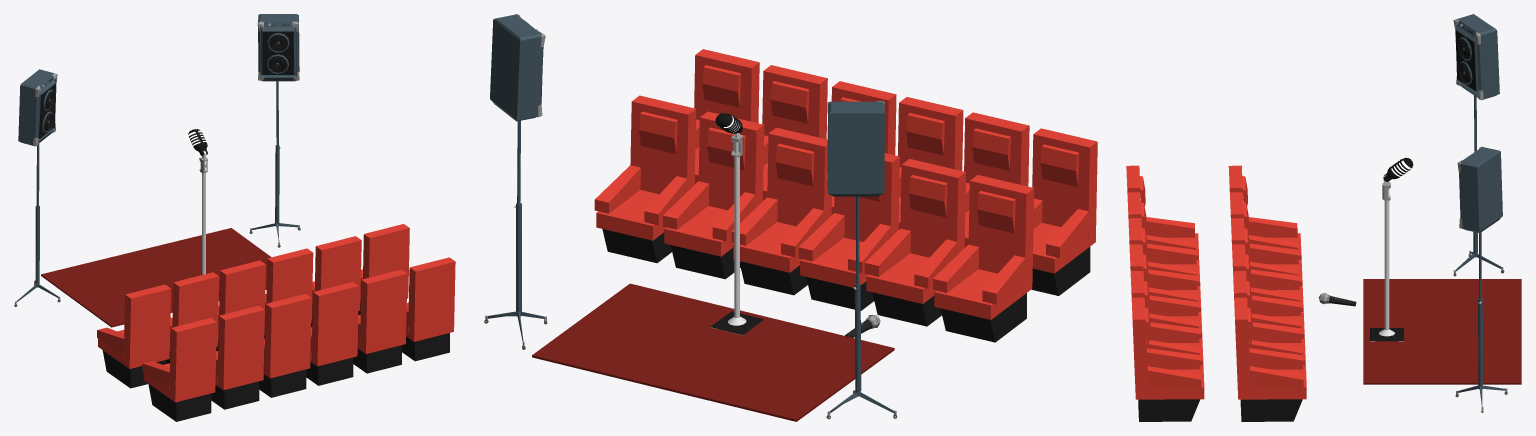
File: comedy.glb
3 views of the same model, side by side, from view 1: azimuth 30°, elevation 25°; view 2: azimuth 150°, elevation 25°; view 3: azimuth 270°, elevation 25° (orthographic). The views are drawn at different scales.
Parts seen in each view (by area): view 1: WoolCarpet1, group21055900442, group2105590044, group21055900446, group21055900445, group21055900443, group21055900444, group21055900448, group437030597, group4370305972, group21055900449, group210559004412 (+13 smaller); view 2: WoolCarpet1, group4370305972, group437030597, group21055900448, group21055900442, group210559004412, group210559004410, group21055900447, group21055900449, group21055900443, group21055900446, group21055900445 (+43 smaller); view 3: WoolCarpet1, group437030597, group4370305972, mic_001, group21055900444, group210559004410, group2670849904, group26708499010, group9754550764, group97545507610, group5498809474, group54988094710 (+29 smaller).
Part boxes in pixels (left/top/right/bottom): WoolCarpet1: left=41, top=228, right=271, bottom=327; group21055900442: left=169, top=318, right=216, bottom=402; group2105590044: left=311, top=282, right=358, bottom=366; group21055900446: left=217, top=305, right=264, bottom=390; group21055900445: left=264, top=294, right=311, bottom=378; group21055900443: left=360, top=269, right=407, bottom=353; group21055900444: left=408, top=257, right=455, bottom=341; group21055900448: left=123, top=284, right=170, bottom=368; group437030597: left=257, top=14, right=299, bottom=81; group4370305972: left=18, top=69, right=57, bottom=146; group21055900449: left=314, top=236, right=361, bottom=310; group210559004412: left=172, top=272, right=219, bottom=346; WoolCarpet1: left=532, top=283, right=894, bottom=421; group4370305972: left=826, top=101, right=884, bottom=196; group437030597: left=490, top=14, right=545, bottom=121; group21055900448: left=968, top=175, right=1034, bottom=293; group21055900442: left=1032, top=128, right=1097, bottom=247; group210559004412: left=900, top=159, right=965, bottom=257; group210559004410: left=630, top=95, right=696, bottom=194; group21055900447: left=767, top=127, right=831, bottom=226; group21055900449: left=698, top=111, right=764, bottom=210; group21055900443: left=762, top=65, right=827, bottom=139; group21055900446: left=964, top=112, right=1029, bottom=186; group21055900445: left=898, top=97, right=963, bottom=170; WoolCarpet1: left=1363, top=279, right=1521, bottom=384; group437030597: left=1457, top=146, right=1502, bottom=232; group4370305972: left=1453, top=14, right=1499, bottom=100; mic_001: left=1370, top=157, right=1413, bottom=341; group21055900444: left=1131, top=297, right=1148, bottom=399; group210559004410: left=1234, top=297, right=1251, bottom=399; group2670849904: left=1138, top=399, right=1200, bottom=421; group26708499010: left=1240, top=399, right=1302, bottom=421; group9754550764: left=1145, top=366, right=1201, bottom=388; group97545507610: left=1248, top=366, right=1303, bottom=388; group5498809474: left=1146, top=348, right=1200, bottom=369; group54988094710: left=1249, top=348, right=1302, bottom=369.
Size of the model in its own units: 17.94 by 13.41 by 18.77.
Materials: 16 (1 with a texture image).
